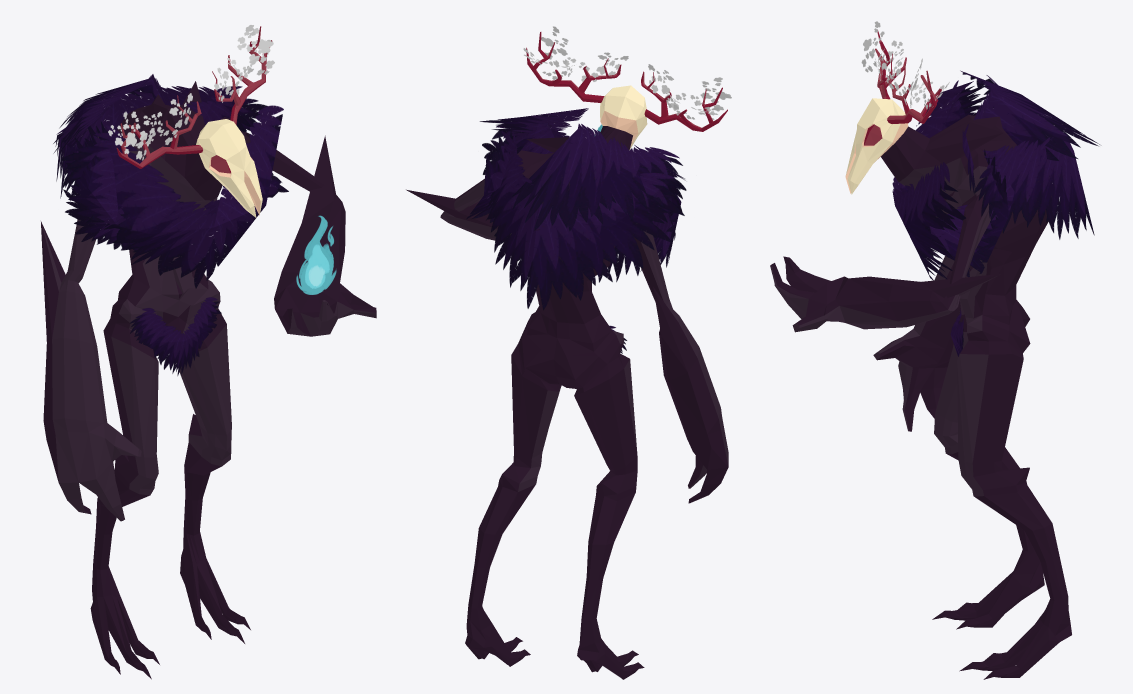
File: forest-guardian.glb
3 renders of one model, left to right at view 1: azimuth 30°, elevation 25°; view 2: azimuth 150°, elevation 25°; view 3: azimuth 270°, elevation 25°, orthographic. The views are drawn at different scales.
Visible parts, largest first — view 1: 3DSMeshMatrix (×2); view 2: 3DSMeshMatrix; view 3: 3DSMeshMatrix.
Boxes of the visible parts, left/top/right/bottom form: 3DSMeshMatrix (×2): left=41, top=25, right=376, bottom=679; 3DSMeshMatrix: left=406, top=26, right=731, bottom=679; 3DSMeshMatrix: left=770, top=21, right=1099, bottom=679.
Size of the model in its own units: 749 by 1520 by 784.
Materials: 10 (4 with a texture image).
